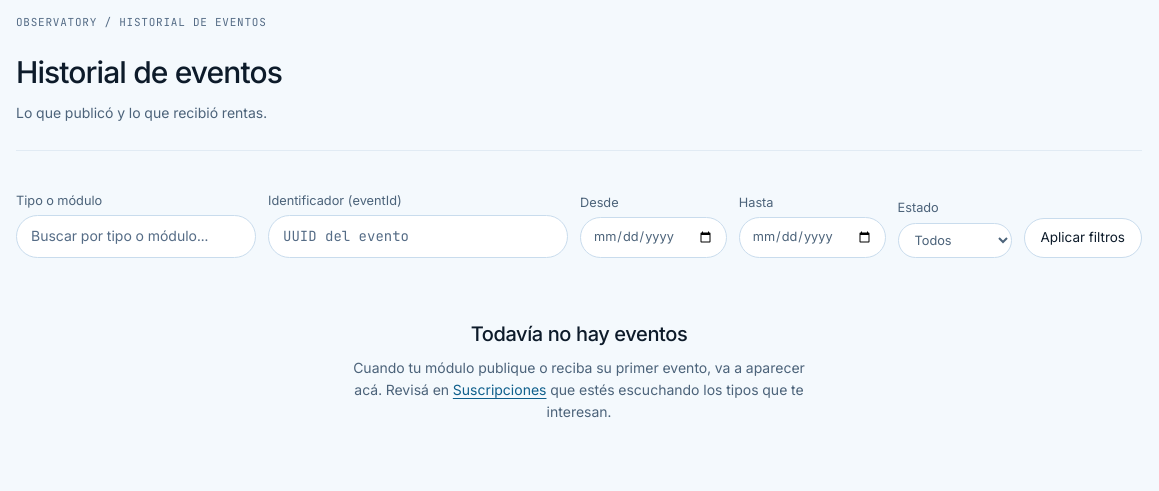
Test: Historial de eventos › un eventId mal formado no dispara el pedido
Expected: the heading "Todavía no hay eventos" is shown, x1=471 y1=322 x2=687 y2=346
Type "123" into the field labelled "Identificador (eventId)" at (418, 236), box x1=268 y1=215 x2=568 y2=258
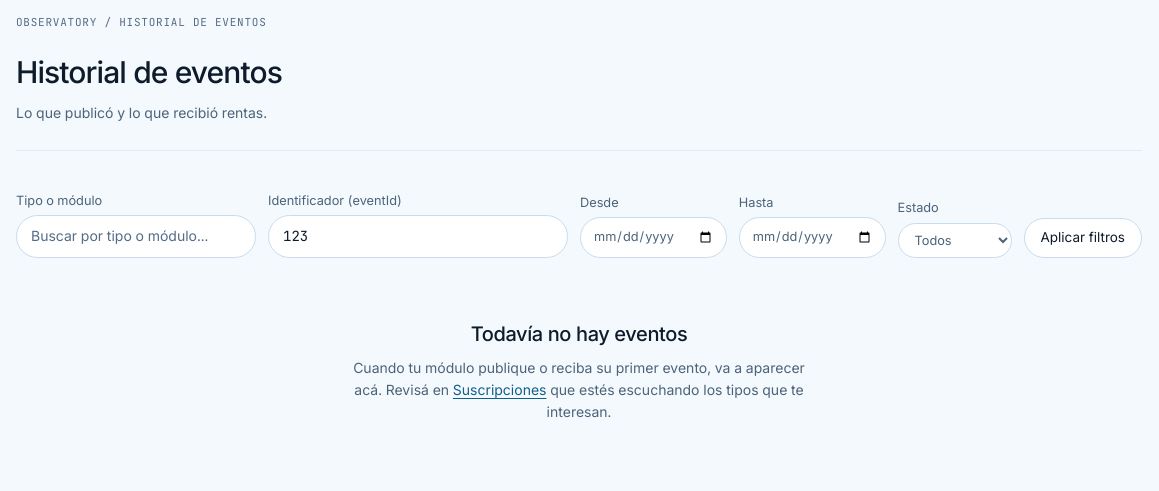
Click the button "Aplicar filtros" at (1083, 238), box x1=1024 y1=218 x2=1142 y2=258
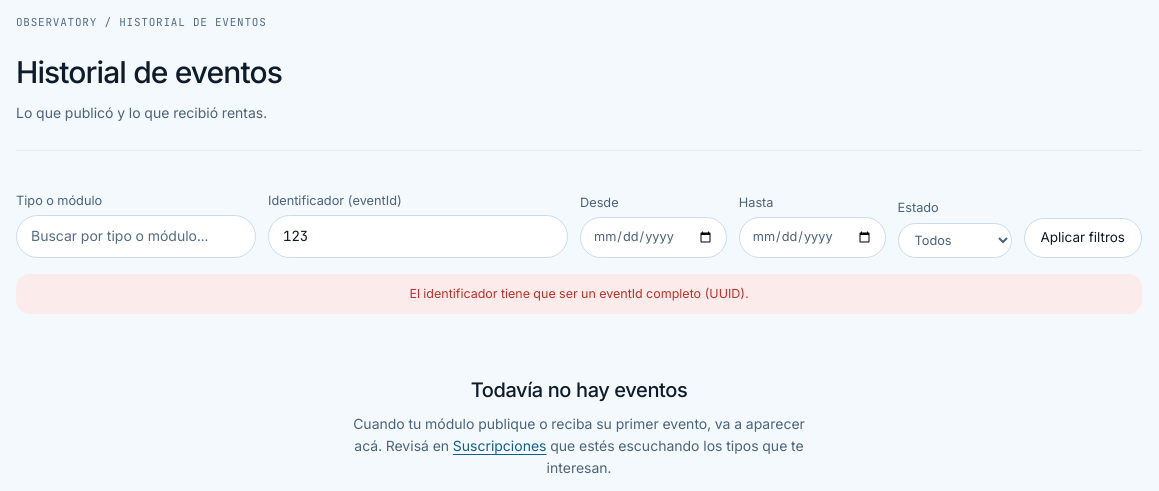
Result: the message shows "UUID" at x1=409 y1=286 x2=749 y2=301
